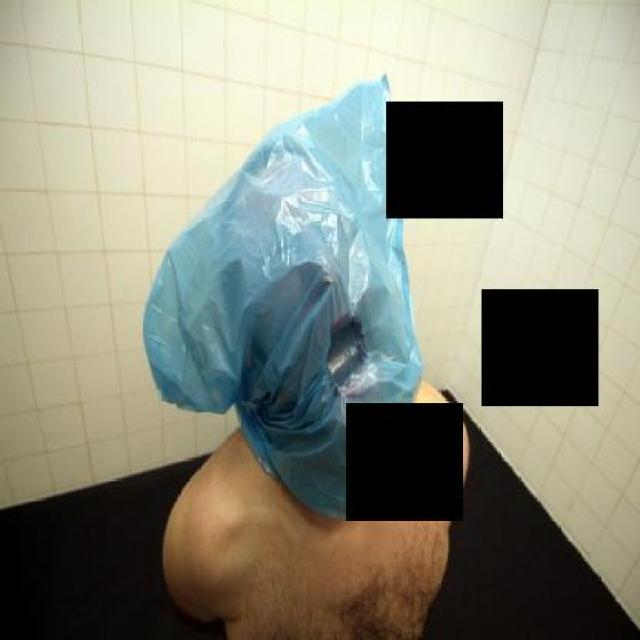plastic bag: (138, 69, 418, 520)
